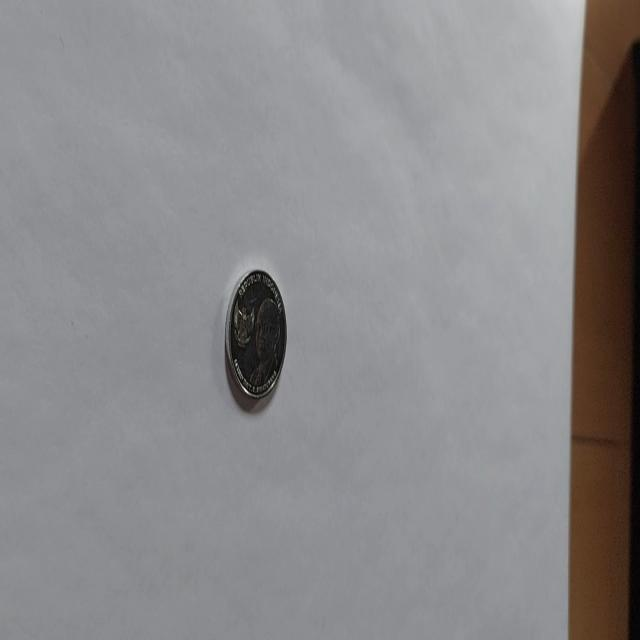lima ratus rupiah: (224, 266, 288, 411)
